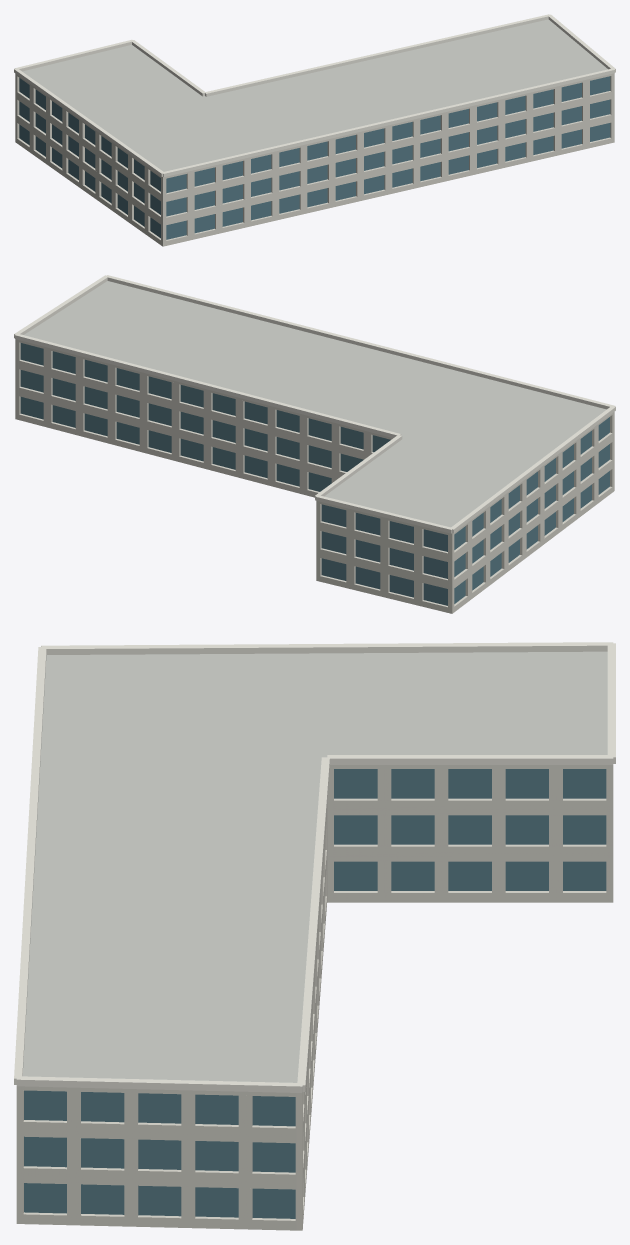
File: sb_1556514401.far.glb
The picture shows the model from 3 angles, top to bottom: view 1: azimuth 30°, elevation 25°; view 2: azimuth 150°, elevation 25°; view 3: azimuth 270°, elevation 25°; orthographic projection. The views are drawn at different scales.
Visible parts, largest first — view 1: roof, wall, glass, trim; view 2: roof, wall, glass, trim; view 3: roof, wall, glass, trim.
Boxes of the visible parts, box(x1,y1,x2,y2) form: roof: box(22, 19, 607, 171); wall: box(15, 73, 614, 246); glass: box(19, 76, 610, 239); trim: box(14, 14, 615, 177); roof: box(24, 281, 606, 527); wall: box(15, 339, 614, 613); glass: box(20, 343, 609, 605); trim: box(14, 275, 615, 533); roof: box(22, 651, 607, 1082); wall: box(16, 765, 613, 1230); glass: box(24, 769, 606, 1218); trim: box(14, 642, 615, 1092).
Bounding box in the file's own units: 63.82 × 9.74 × 36.54.
